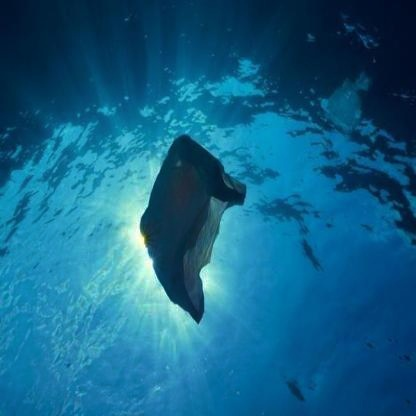pbag: (133, 129, 250, 328)
